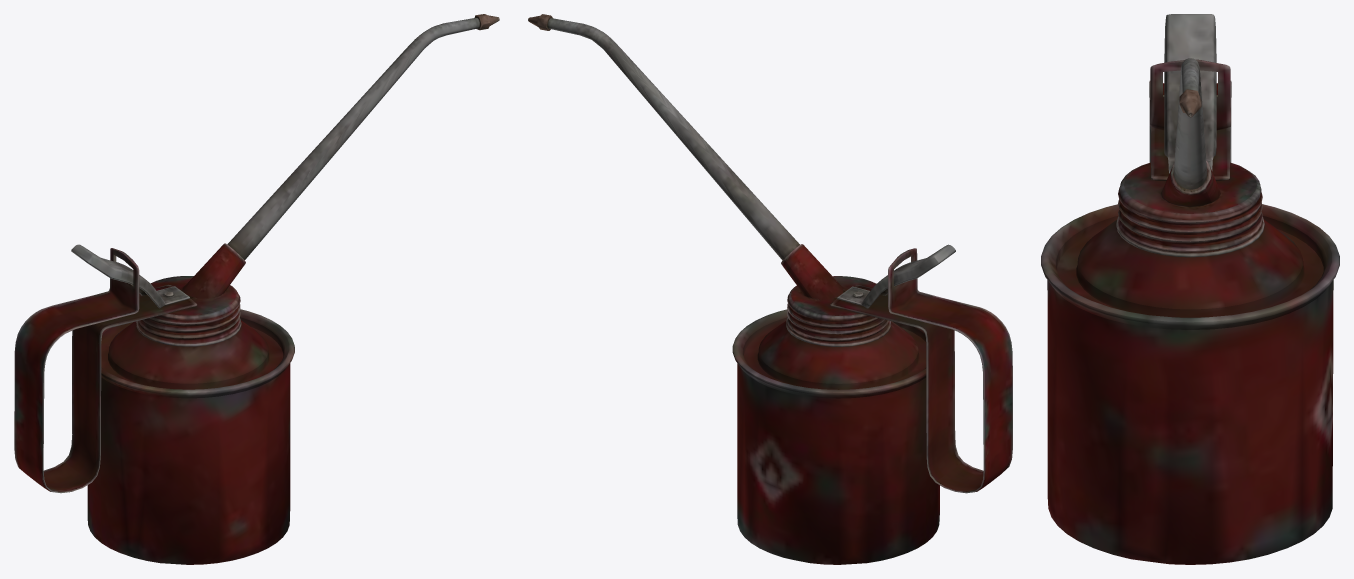
File: small_oil_can_01.glb
3 renders of one model, left to right at view 1: azimuth 30°, elevation 25°; view 2: azimuth 150°, elevation 25°; view 3: azimuth 270°, elevation 25°, orthographic. The views are drawn at different scales.
Parts seen in each view (by area): view 1: small_oil_can_01; view 2: small_oil_can_01; view 3: small_oil_can_01.
Boxes of the visible parts, x1,y1,x2,y2 form: small_oil_can_01: (14, 14, 499, 564); small_oil_can_01: (528, 14, 1012, 564); small_oil_can_01: (1041, 14, 1339, 564).
Bounding box in the file's own units: 0.266 × 0.2368 × 0.1038.
Materials: 1 (1 with a texture image).
